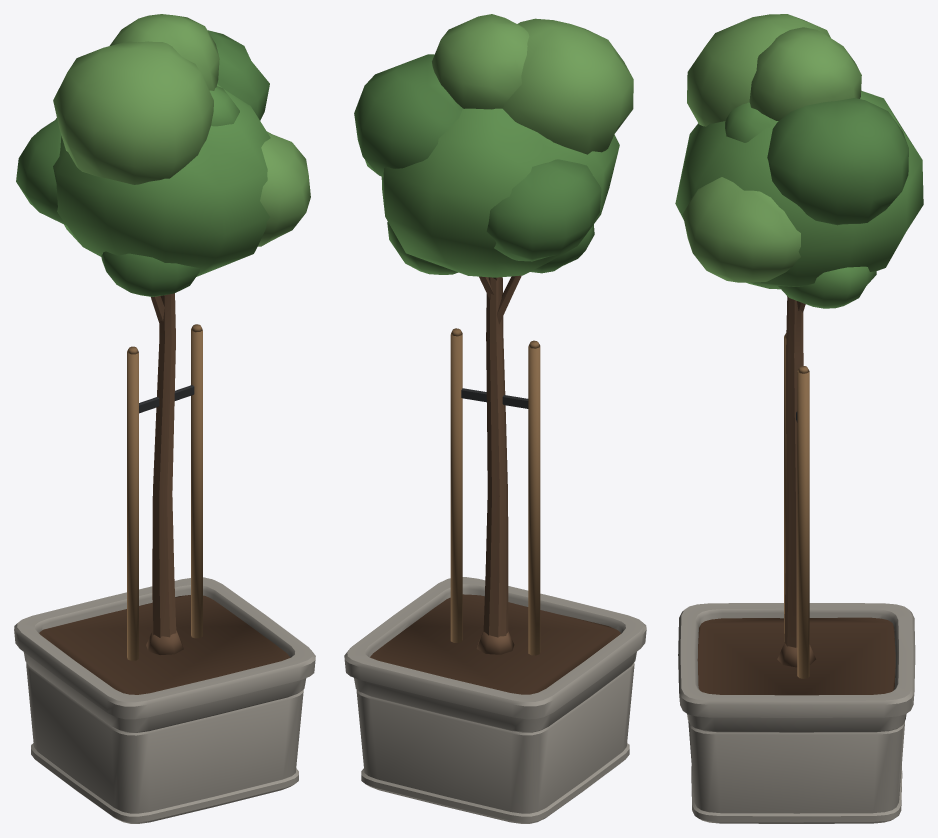
File: planter.glb
3 renders of one model, left to right at view 1: azimuth 30°, elevation 25°; view 2: azimuth 150°, elevation 25°; view 3: azimuth 270°, elevation 25°, orthographic.
Visible parts, largest first — view 1: planter; view 2: planter; view 3: planter.
Part boxes in pixels (x1=…): planter: x1=14, y1=14, x2=315, y2=823; planter: x1=344, y1=14, x2=646, y2=823; planter: x1=675, y1=14, x2=923, y2=823.
Size of the model in its own units: 0.7983 by 2.42 by 0.7325.
